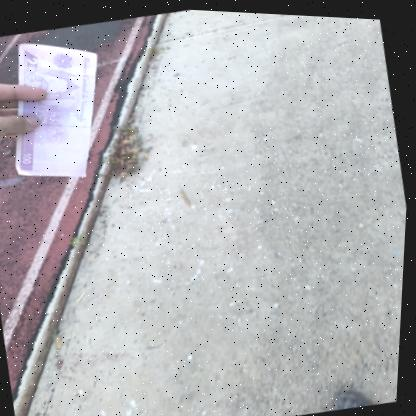one_hundred-back-vef: (0, 27, 121, 189)
